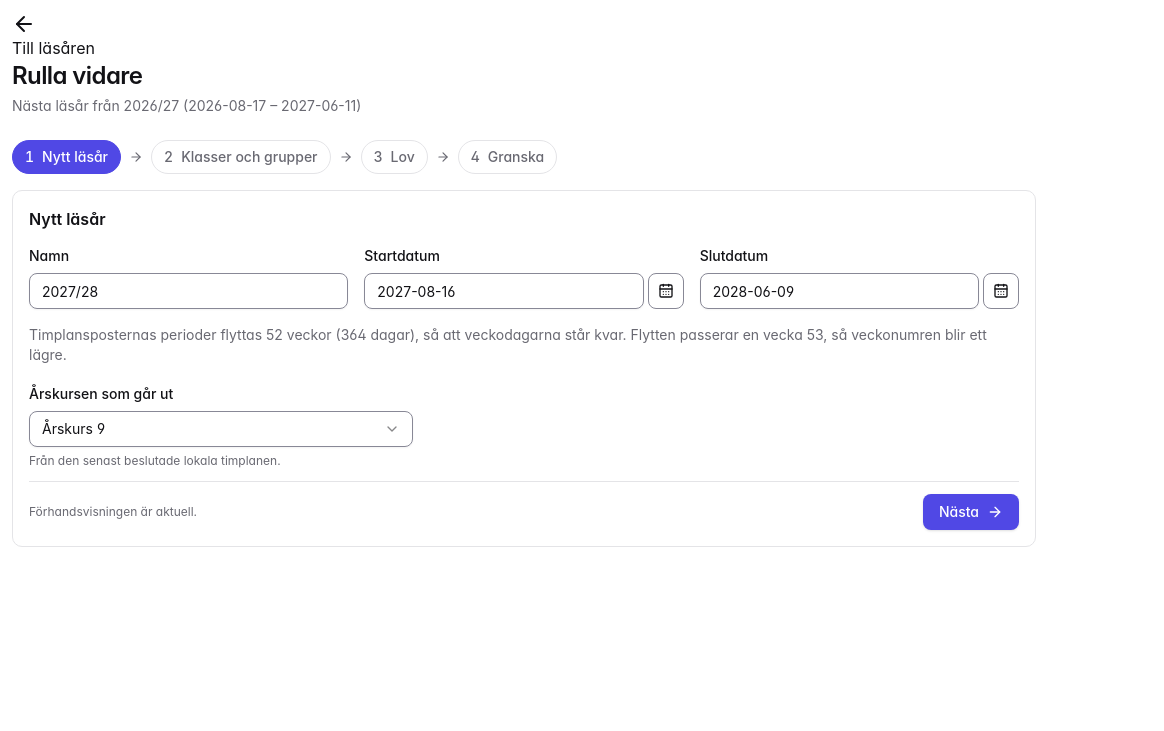
RolloverWizard › offers a new intake class beside the promotion, for the lowest grade only
Click the button "2 Klasser och grupper" at [241, 157], box [151,140,330,174]
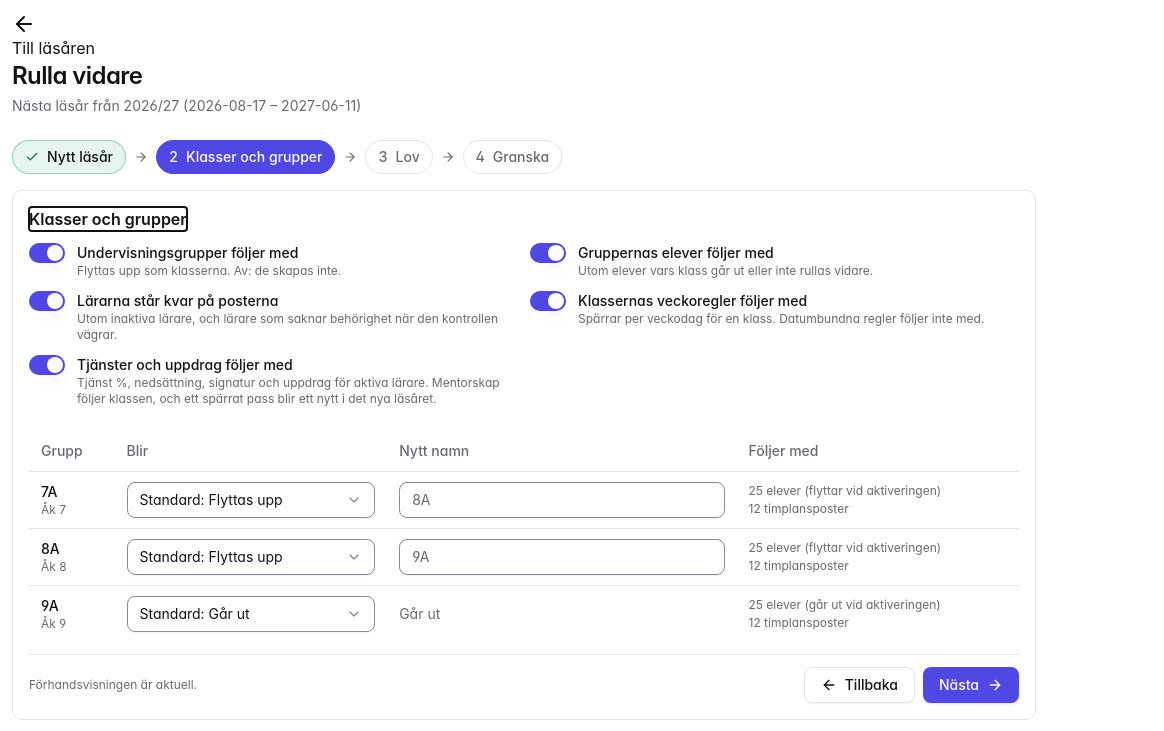
Click the dropdown named "Vad 8A blir" at [251, 556], box [126,538,375,574]
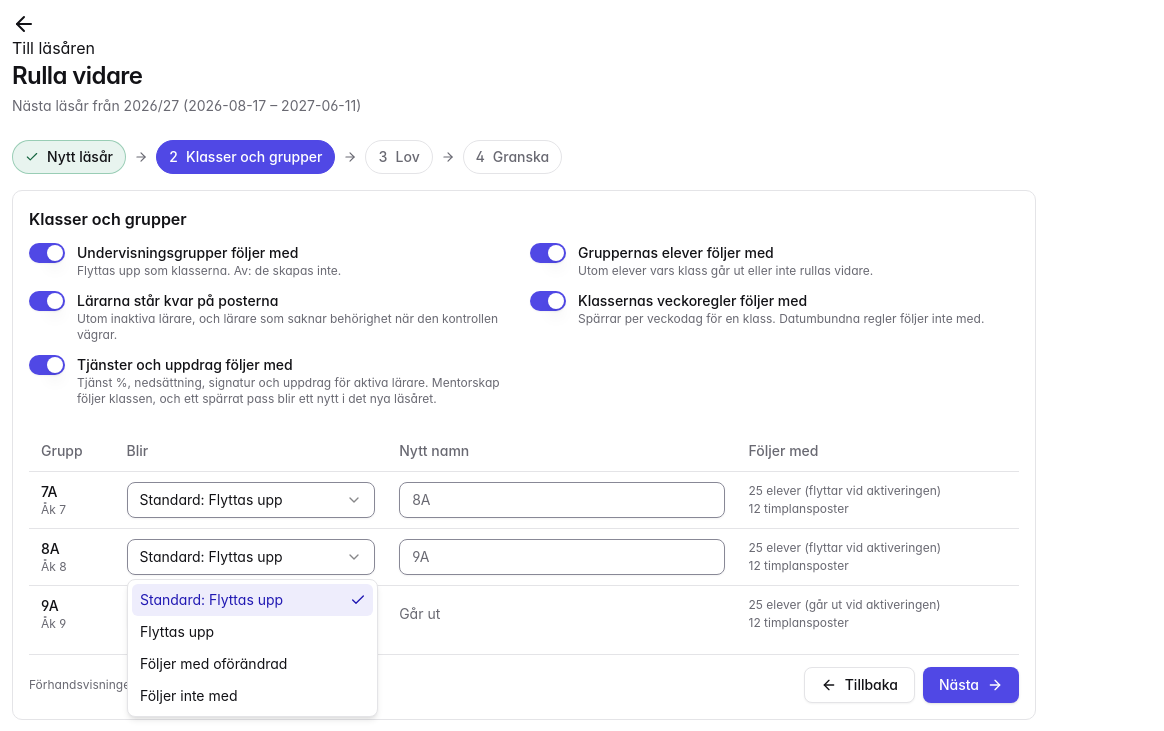
Expected: the option "ny klass för intaget" is not shown
Press Escape
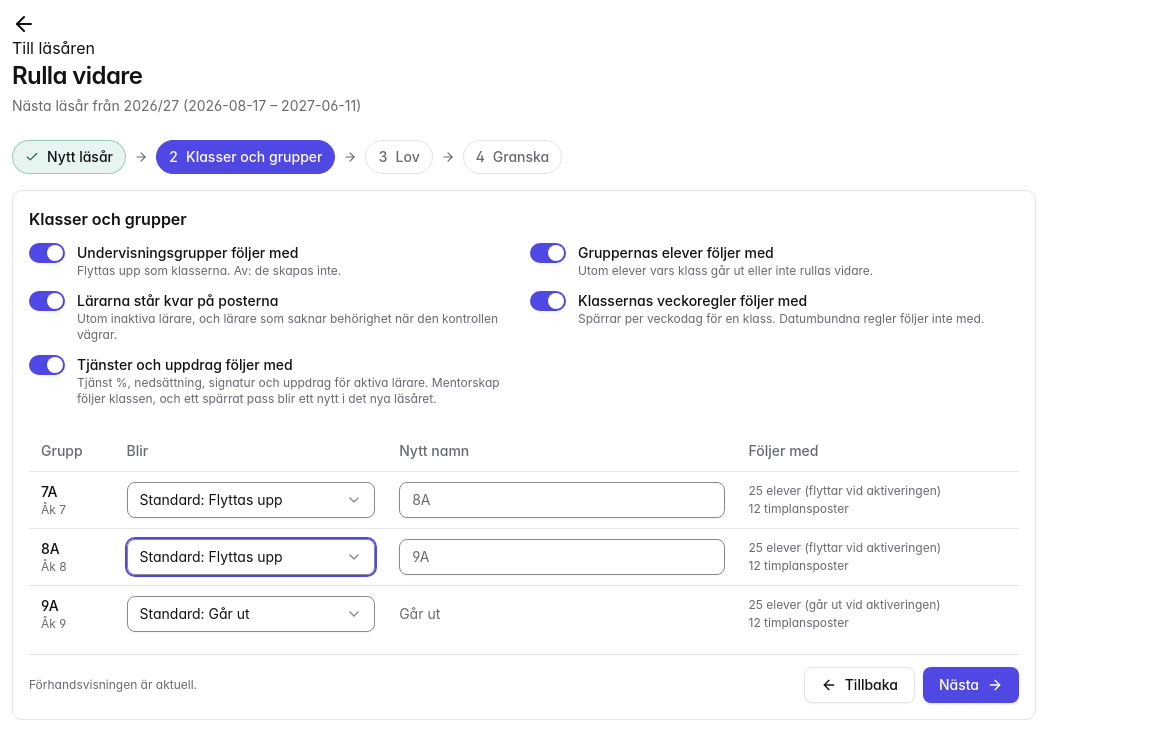
Click the dropdown named "Vad 7A blir" at [251, 500], box [126,482,375,518]
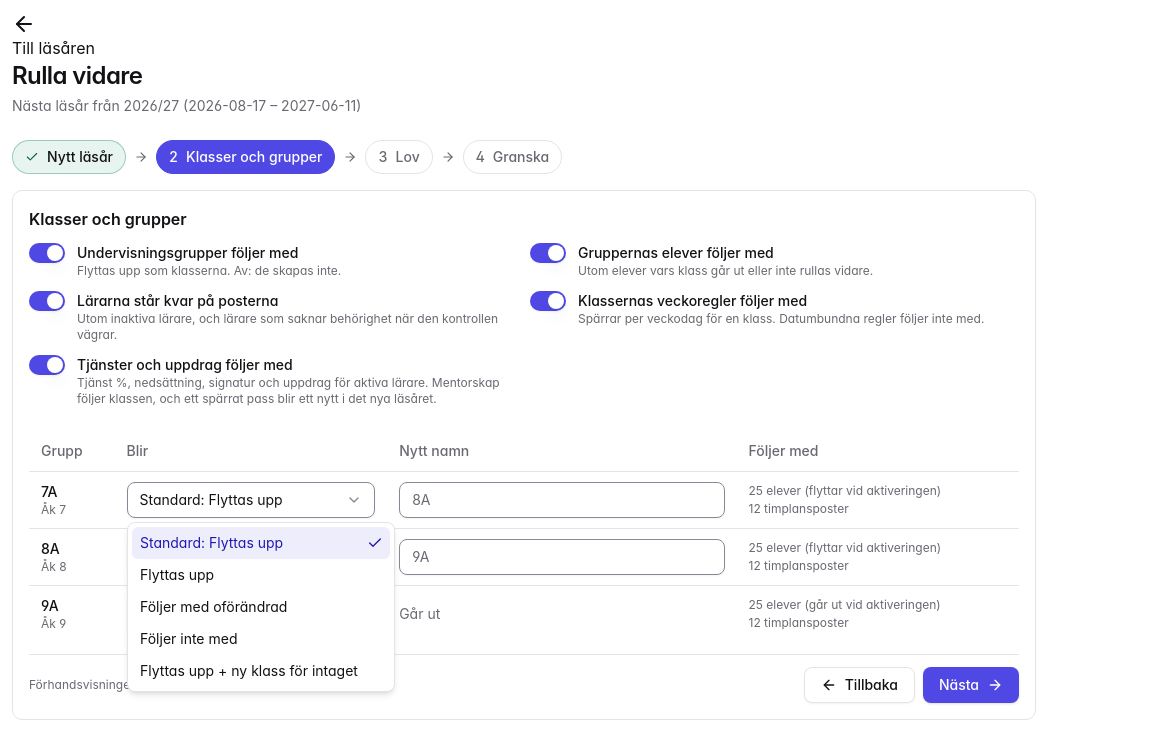
Click the option "Flyttas upp + ny klass för intaget" at [249, 670], box [140,662,358,679]
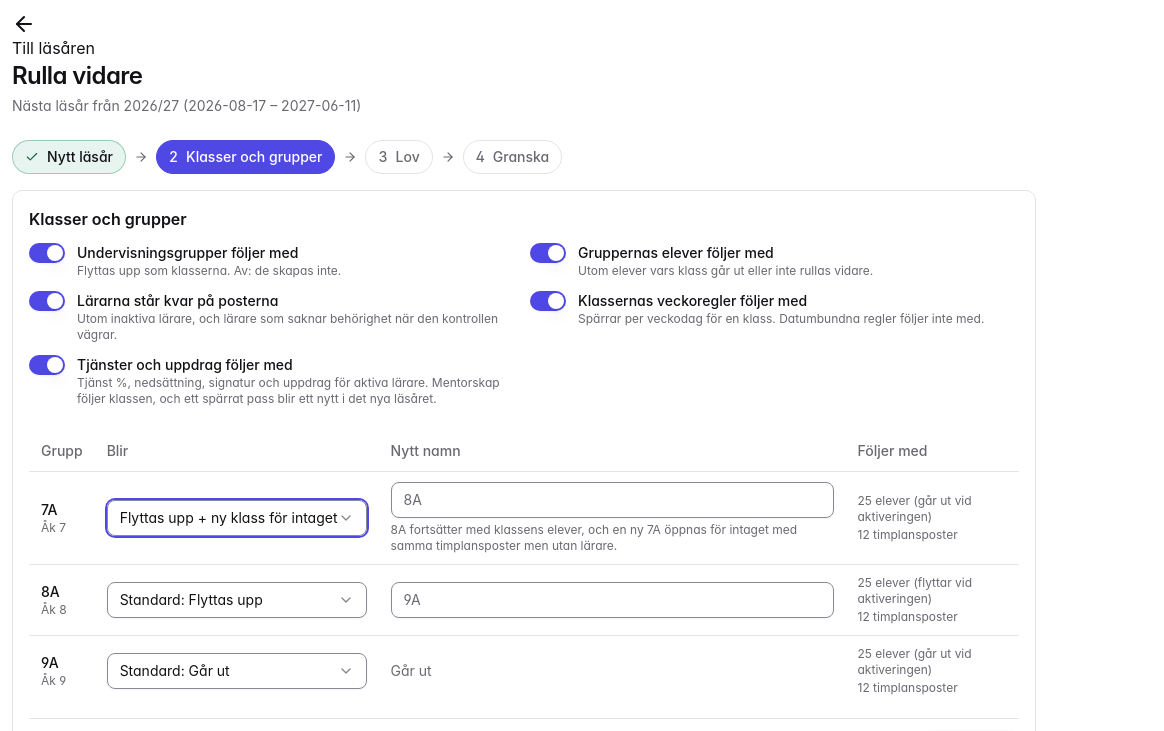
Expected: the text "8A fortsätter med klassens elever, och en ny 7A öppnas för intaget" is shown, [390,522,797,552]
